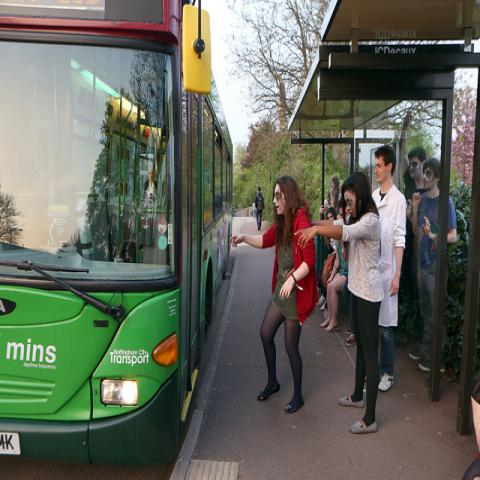bus: (0, 3, 235, 465)
